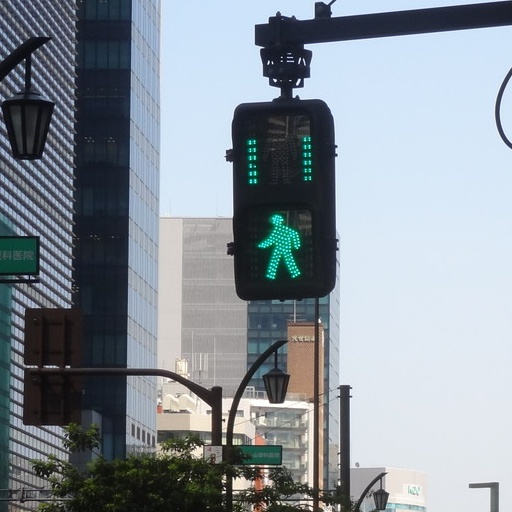Pedestrian_Signal_Blue: (235, 108, 333, 294)
